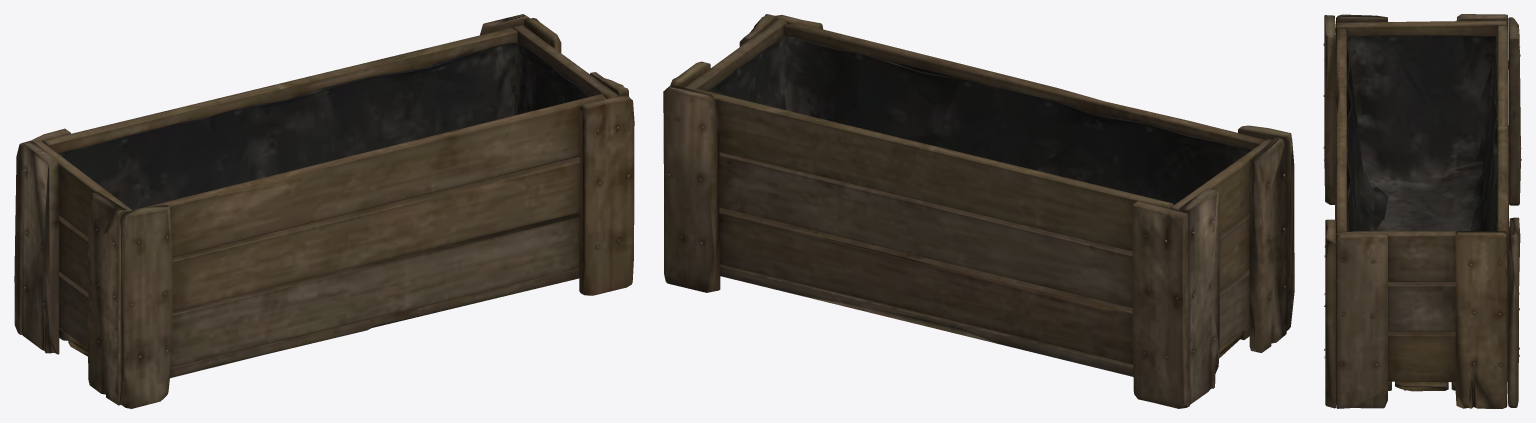
Rendered from planter_box_02.glb.
3 views of the same model, side by side, from view 1: azimuth 30°, elevation 25°; view 2: azimuth 150°, elevation 25°; view 3: azimuth 270°, elevation 25° (orthographic). The views are drawn at different scales.
Parts seen in each view (by area): view 1: planter_box_02, planter_box_02_lo; view 2: planter_box_02, planter_box_02_lo; view 3: planter_box_02, planter_box_02_lo.
Part boxes in pixels (x1,y1,x2,y2): planter_box_02: (14, 14, 634, 408); planter_box_02_lo: (15, 24, 626, 407); planter_box_02: (663, 14, 1294, 408); planter_box_02_lo: (663, 15, 1292, 406); planter_box_02: (1323, 14, 1521, 408); planter_box_02_lo: (1326, 14, 1519, 408).
Bounding box in the file's own units: 1.25 × 0.4534 × 0.4672.
Materials: 1 (1 with a texture image).
